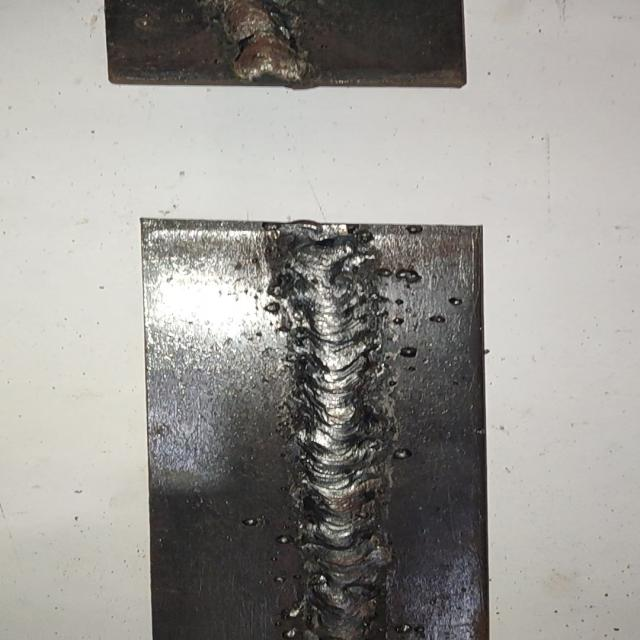Good Weld: (292, 228, 382, 640)
